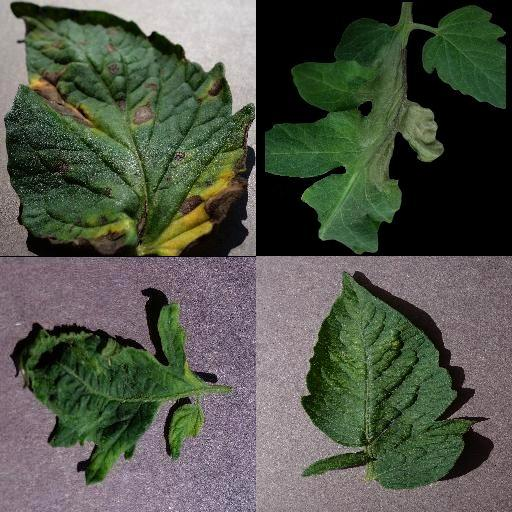Early Blight: (7, 2, 256, 256)
Healthy: (420, 6, 506, 110)
Late Blight: (266, 18, 444, 256)
Mosaic Virus: (19, 302, 201, 484)
Spider Mites: (299, 271, 471, 491)
